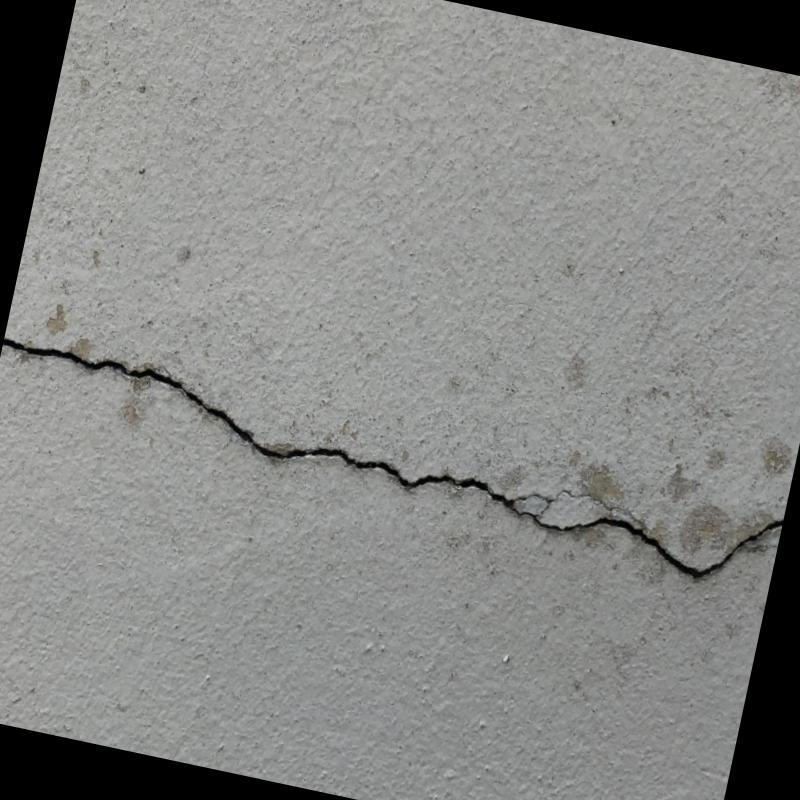pothole: (3, 338, 783, 580)
